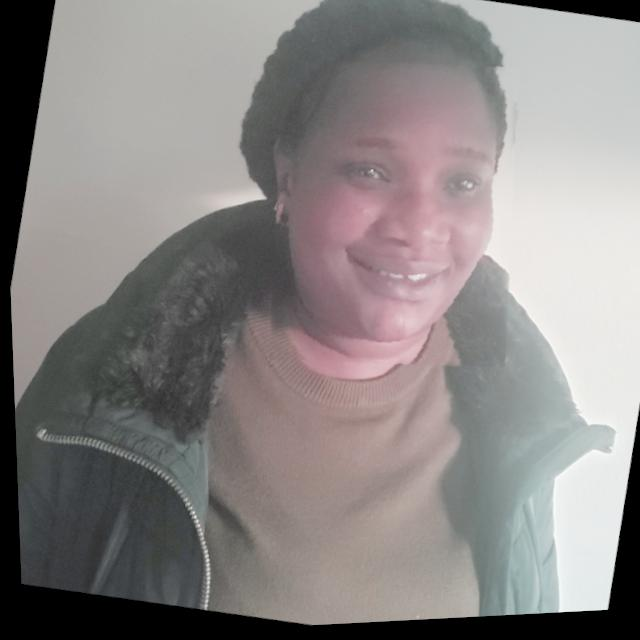happy: (234, 35, 550, 402)
